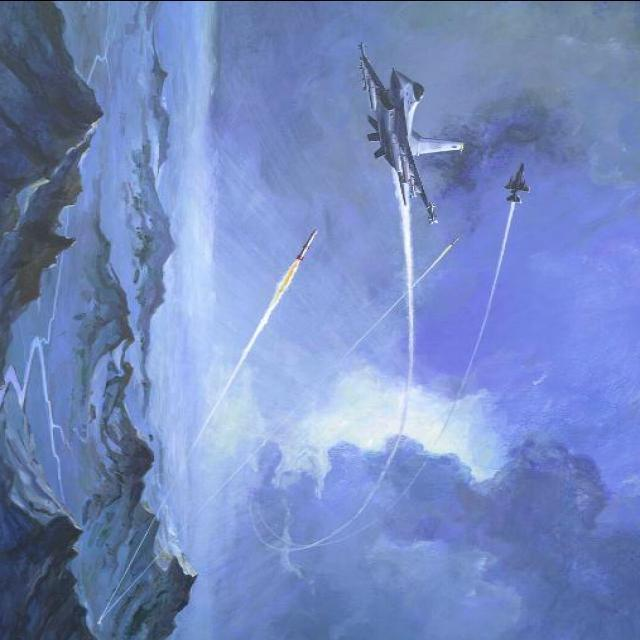missile: (299, 226, 323, 265), (451, 235, 464, 246)
